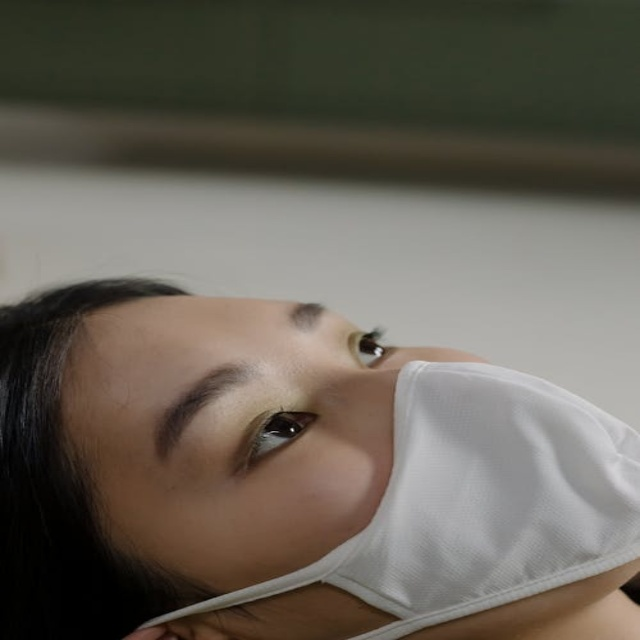Mascara: (117, 357, 639, 637)
Sin_gafas: (241, 406, 318, 471), (352, 325, 389, 368)
